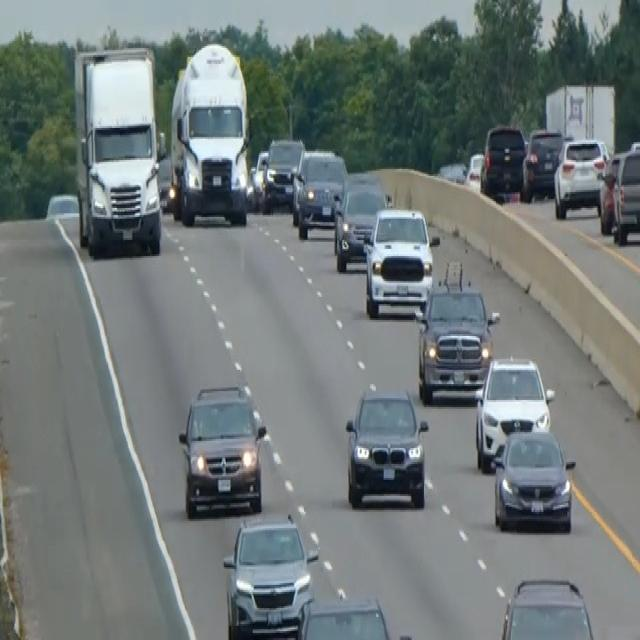car: (221, 510, 318, 638), (177, 380, 266, 518), (414, 262, 499, 404), (343, 382, 429, 508), (473, 354, 554, 471), (492, 427, 576, 533), (362, 203, 438, 318), (495, 574, 599, 638), (290, 592, 414, 638), (332, 174, 390, 272), (292, 146, 347, 238), (553, 135, 609, 219), (479, 121, 526, 199), (521, 126, 563, 201), (263, 135, 304, 210), (611, 144, 639, 245), (596, 147, 625, 233), (248, 148, 269, 208), (156, 151, 174, 212), (464, 150, 484, 188)
lorry: (72, 43, 164, 256), (169, 41, 251, 226)
